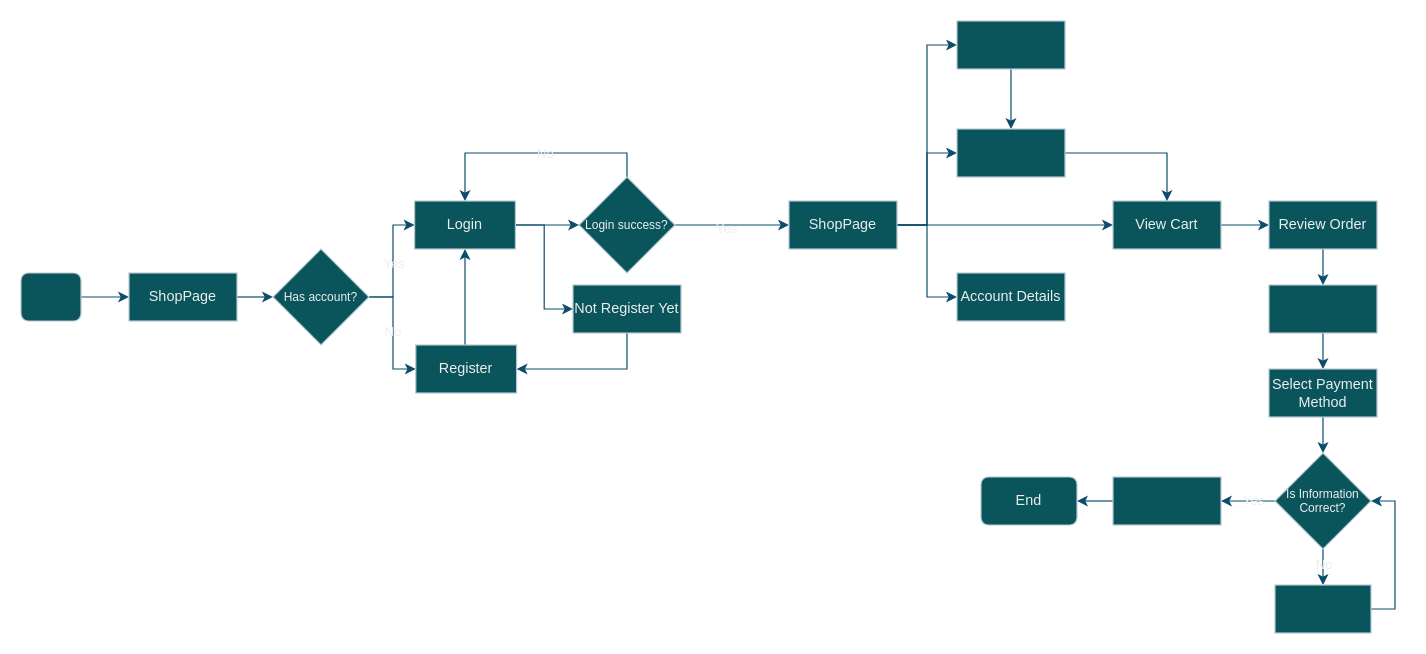
Image size: 1426x654. Some labels were removed from this diagram. Each missing label, with the box of its shape:
Add To Cart: (956, 128, 1065, 177)
Book Information: (956, 20, 1065, 69)
Change Information: (1274, 584, 1371, 633)
Enter Shipping Information: (1268, 284, 1377, 333)
Place Order: (1112, 476, 1221, 525)
Start: (20, 272, 81, 321)
